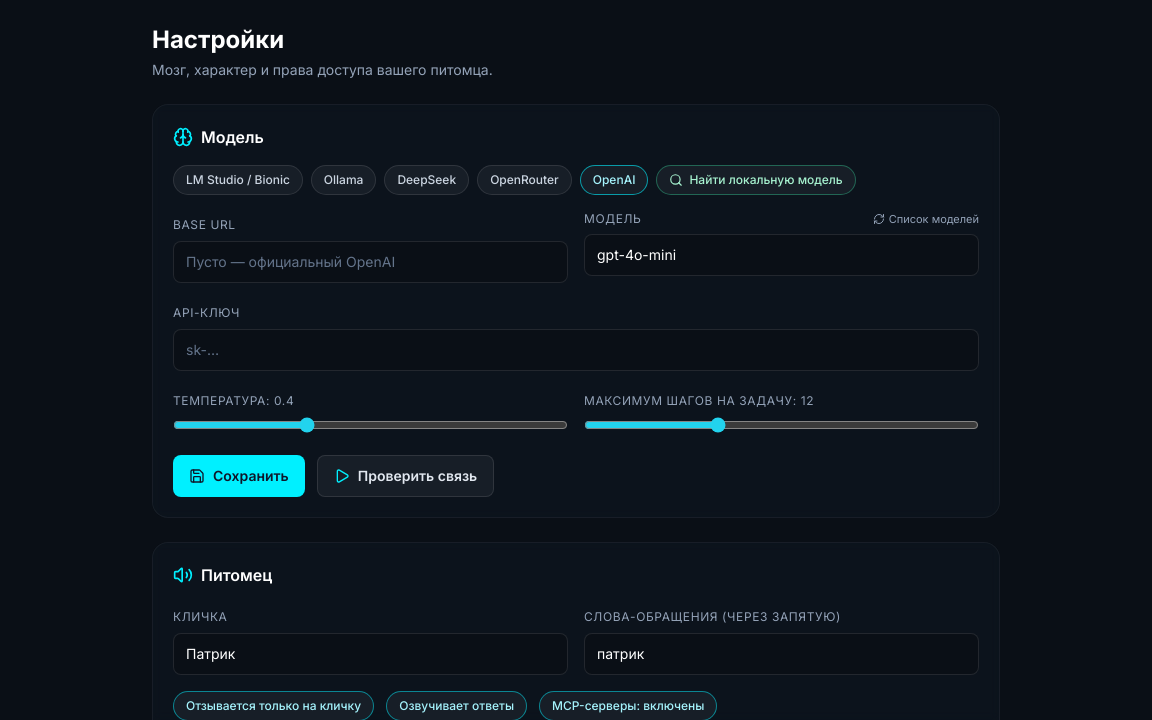
Test: Настройки: подключение локальной модели › находит запущенный локальный сервер и подставляет его модель
The image size is (1152, 720).
expect the field with placeholder "Пусто — официальный OpenAI" is shown: met, box [173,241,568,283]
What coordinates should you click on to do the following:
click the button "Найти локальную модель"
I would click on:
 (756, 180)
Its box is [656,165,856,195].
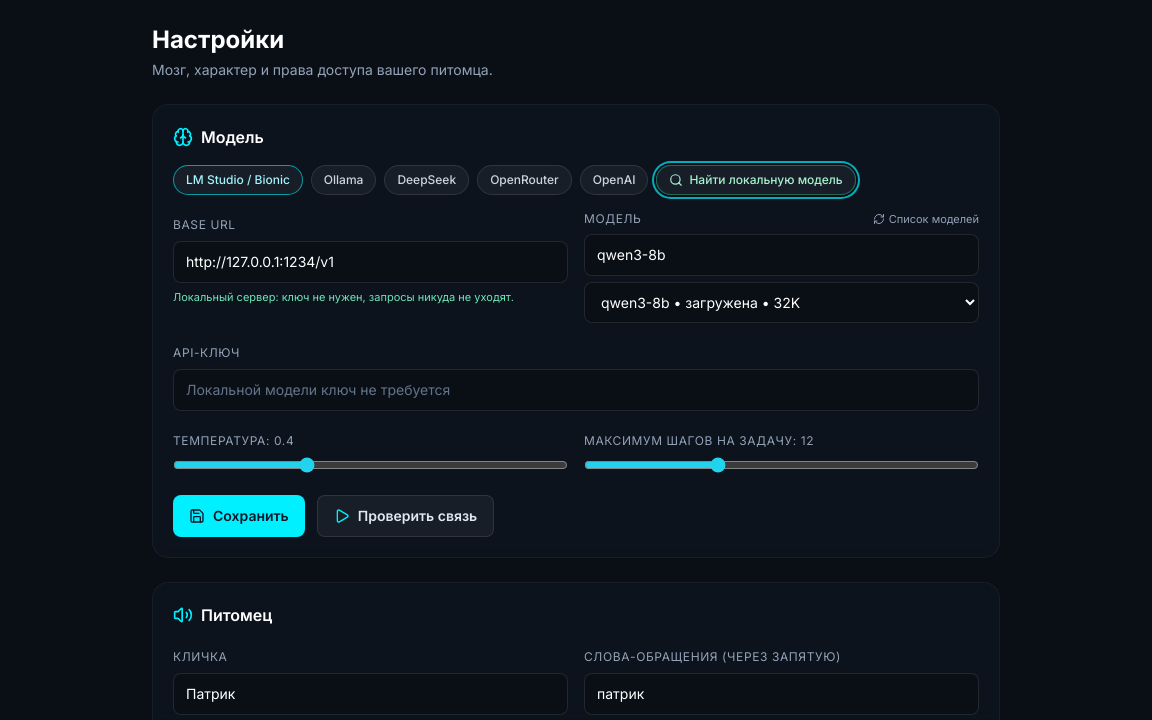
expect the field with placeholder "Пусто — официальный OpenAI" holds "http://127.0.0.1:1234/v1": met, box [173,241,568,283]
expect the field named "Модель" holds "qwen3-8b": met, box [584,234,979,276]
expect the dropdown named "Модели сервера" is shown: met, box [584,282,979,322]
